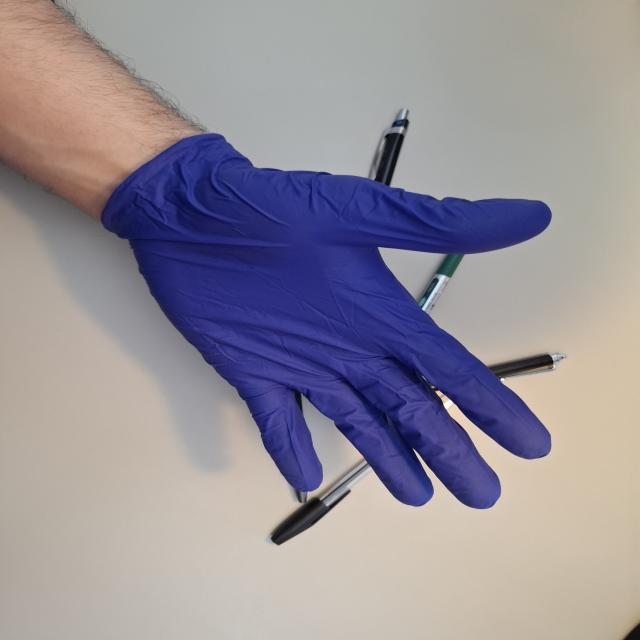glove_on: (99, 130, 557, 513)
